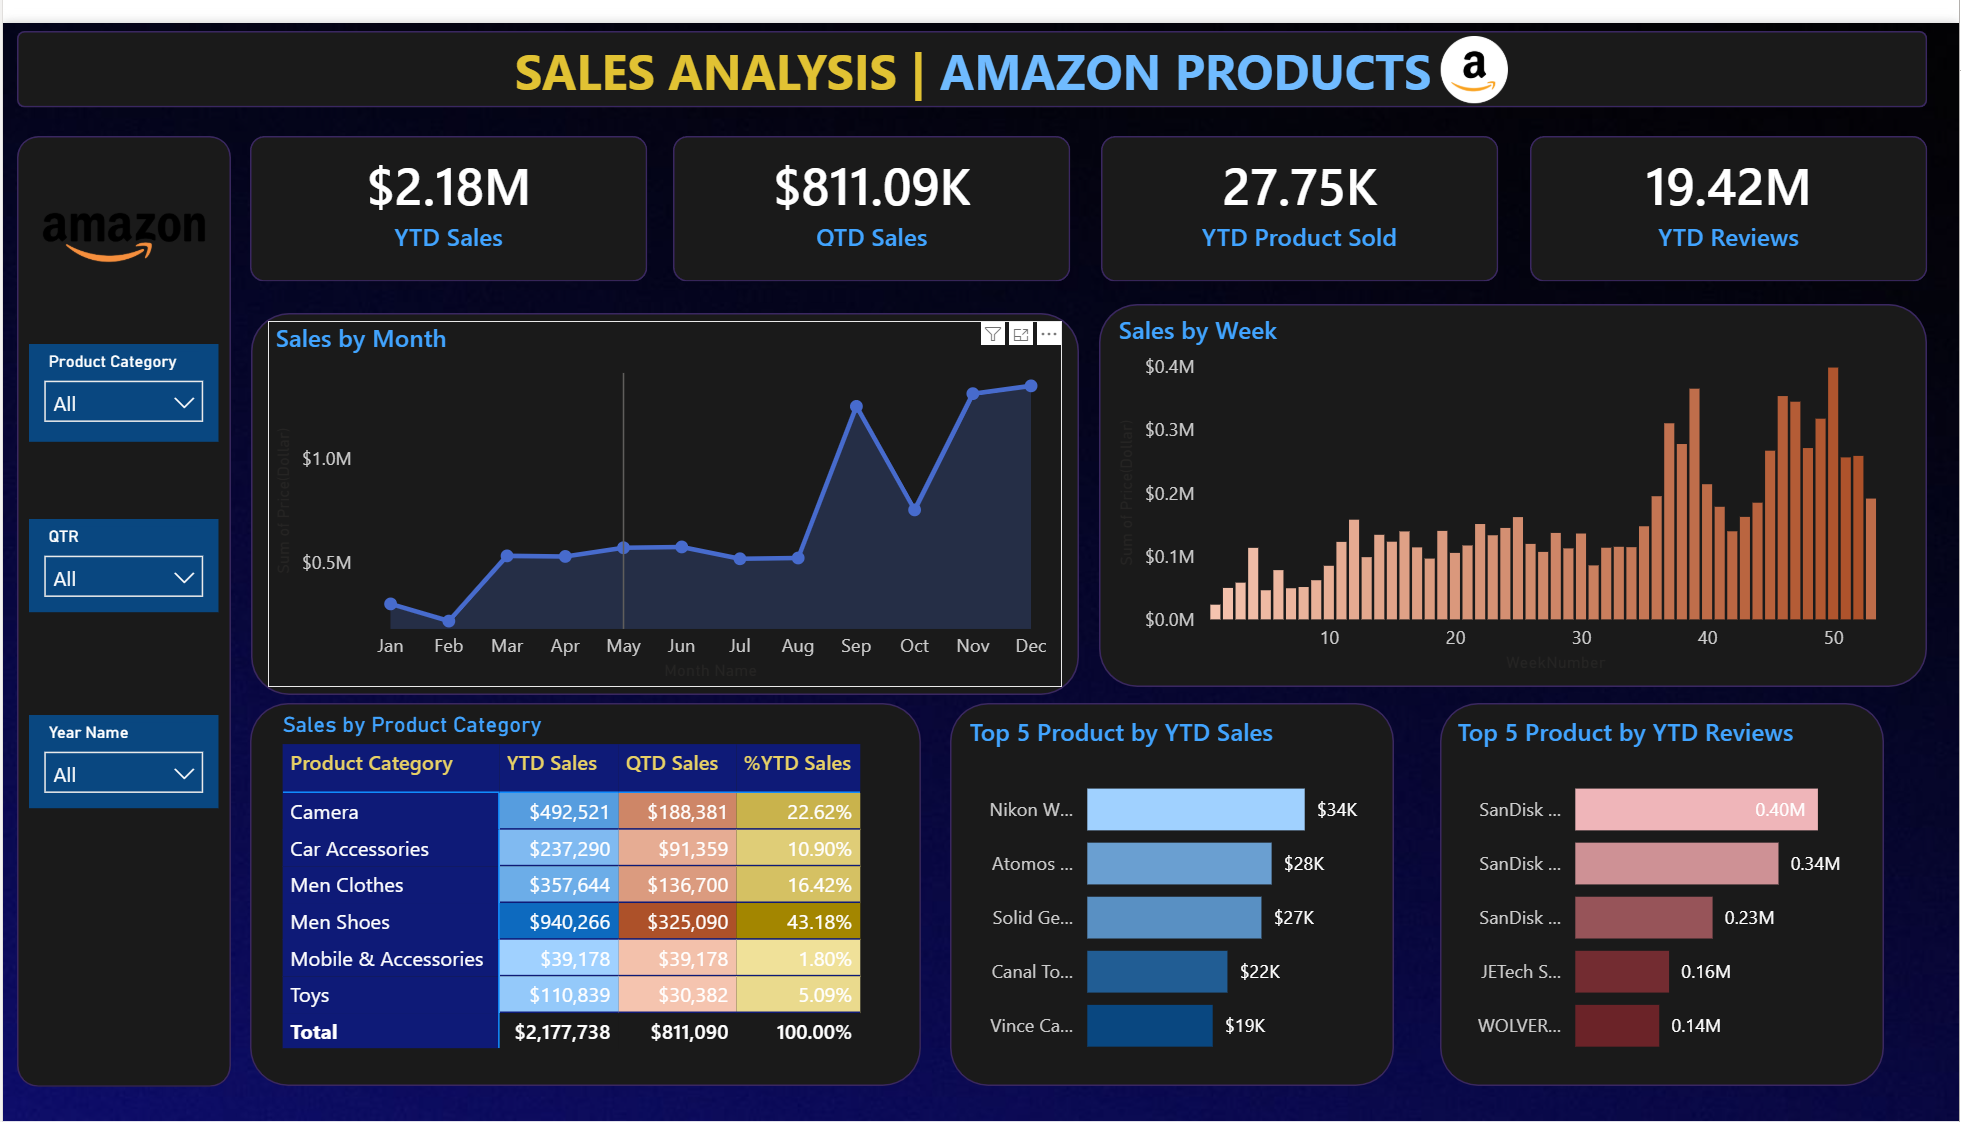

The page's visual inventory and layout, read from the dashboard file:
{"tool":"powerbi","page":{"name":"Page 1","canvas":[1280,720],"ordinal":0},"visuals":[{"type":"shape","box":[9.3,5.3,1250,50],"z":0},{"type":"shape","box":[161.7,73.9,260,95.3],"z":1000},{"type":"textbox","box":[330,4,619.3,52.7],"z":2000},{"type":"cardVisual","fields":{"Data":["Amazon_Data.YTD Sales"]},"box":[161.7,73.9,260.3,95.2],"z":3000},{"type":"image","box":[934,8.7,57.3,44],"z":4000},{"type":"shape","box":[438.4,73.9,260,95.3],"z":5000},{"type":"shape","box":[9.2,73.9,140,622.3],"z":6000},{"type":"shape","box":[718.7,73.9,260,95.3],"z":7000},{"type":"shape","box":[999.1,73.9,260,95.3],"z":8000},{"type":"cardVisual","fields":{"Data":["Amazon_Data.QTD Sales"]},"box":[439.3,73.9,259.6,95.2],"z":9000},{"type":"shape","box":[162.3,189.8,541.8,250],"z":10000},{"type":"cardVisual","fields":{"Data":["Amazon_Data.YTD Product Sold"]},"box":[718.2,73.9,260.3,95.2],"z":11000},{"type":"cardVisual","fields":{"Data":["Amazon_Data.YTD Reviews"]},"box":[999.1,73.9,260.3,95.2],"z":12000},{"type":"areaChart","title":"Sales by Month","fields":{"Category":["Date Table.Month Name"],"Y":["Sum(Amazon_Data.Price(Dollar))"]},"box":[173.4,195,519.6,239.5],"z":13000},{"type":"shape","box":[717.2,183.9,541.8,250.6],"z":14000},{"type":"columnChart","title":"Sales by Week","fields":{"Category":["Date Table.WeekNumber"],"Y":["Sum(Amazon_Data.Price(Dollar))"]},"box":[725.1,189.8,526.1,239.5],"z":15000},{"type":"shape","box":[161.6,445,439.1,250.6],"z":16000},{"type":"pivotTable","title":"Sales by Product Category","fields":{"Rows":["Amazon_Data.Product Category"],"Values":["Amazon_Data.YTD Sales","Amazon_Data.QTD Sales","Divide(Amazon_Data.YTD Sales, ScopedEval(Amazon_Data.YTD Sales, []))"]},"box":[178,450.9,412.3,239.5],"z":17000},{"type":"shape","box":[619.7,445,290.6,250.6],"z":18000},{"type":"shape","box":[940.4,445,290.6,250.6],"z":19000},{"type":"clusteredBarChart","title":"Top 5 Product by YTD Sales","fields":{"Category":["Amazon_Data.Product Description"],"Y":["Amazon_Data.YTD Sales"]},"box":[627.5,452.6,274.4,237.2],"z":20000},{"type":"clusteredBarChart","title":"Top 5 Product by YTD Reviews","fields":{"Category":["Amazon_Data.Product Description"],"Y":["Amazon_Data.YTD Reviews"]},"box":[946.6,452.6,277.1,237.2],"z":21000},{"type":"slicer","fields":{"Values":["Amazon_Data.Product Category"]},"box":[17,210.1,124.3,64.1],"z":22000},{"type":"slicer","fields":{"Values":["Date Table.QTR"]},"box":[17,324.6,124.3,60.9],"z":23000},{"type":"slicer","fields":{"Values":["Date Table.Year Name"]},"box":[17,452.8,124.3,60.9],"z":24000},{"type":"image","box":[9.2,104,140,65.4],"z":25000}]}

Visuals, with their boxes in screenshot pixels (x1, y1, x2, y2), scaled from the page's 1280x720 canvas onto the 1961x1122 screenshot:
shape: x1=14 y1=8 x2=1929 y2=86
shape: x1=248 y1=115 x2=646 y2=264
textbox: x1=506 y1=6 x2=1454 y2=88
cardVisual - Amazon_Data.YTD Sales: x1=248 y1=115 x2=647 y2=264
image: x1=1431 y1=14 x2=1519 y2=82
shape: x1=672 y1=115 x2=1070 y2=264
shape: x1=14 y1=115 x2=229 y2=1085
shape: x1=1101 y1=115 x2=1499 y2=264
shape: x1=1531 y1=115 x2=1929 y2=264
cardVisual - Amazon_Data.QTD Sales: x1=673 y1=115 x2=1071 y2=264
shape: x1=249 y1=296 x2=1079 y2=685
cardVisual - Amazon_Data.YTD Product Sold: x1=1100 y1=115 x2=1499 y2=264
cardVisual - Amazon_Data.YTD Reviews: x1=1531 y1=115 x2=1929 y2=264
"Sales by Month" areaChart: x1=266 y1=304 x2=1062 y2=677
shape: x1=1099 y1=287 x2=1929 y2=677
"Sales by Week" columnChart: x1=1111 y1=296 x2=1917 y2=669
shape: x1=248 y1=693 x2=920 y2=1084
"Sales by Product Category" pivotTable: x1=273 y1=703 x2=904 y2=1076
shape: x1=949 y1=693 x2=1395 y2=1084
shape: x1=1441 y1=693 x2=1886 y2=1084
"Top 5 Product by YTD Sales" clusteredBarChart: x1=961 y1=705 x2=1382 y2=1075
"Top 5 Product by YTD Reviews" clusteredBarChart: x1=1450 y1=705 x2=1875 y2=1075
slicer - Amazon_Data.Product Category: x1=26 y1=327 x2=216 y2=427
slicer - Date Table.QTR: x1=26 y1=506 x2=216 y2=601
slicer - Date Table.Year Name: x1=26 y1=706 x2=216 y2=801
image: x1=14 y1=162 x2=229 y2=264
